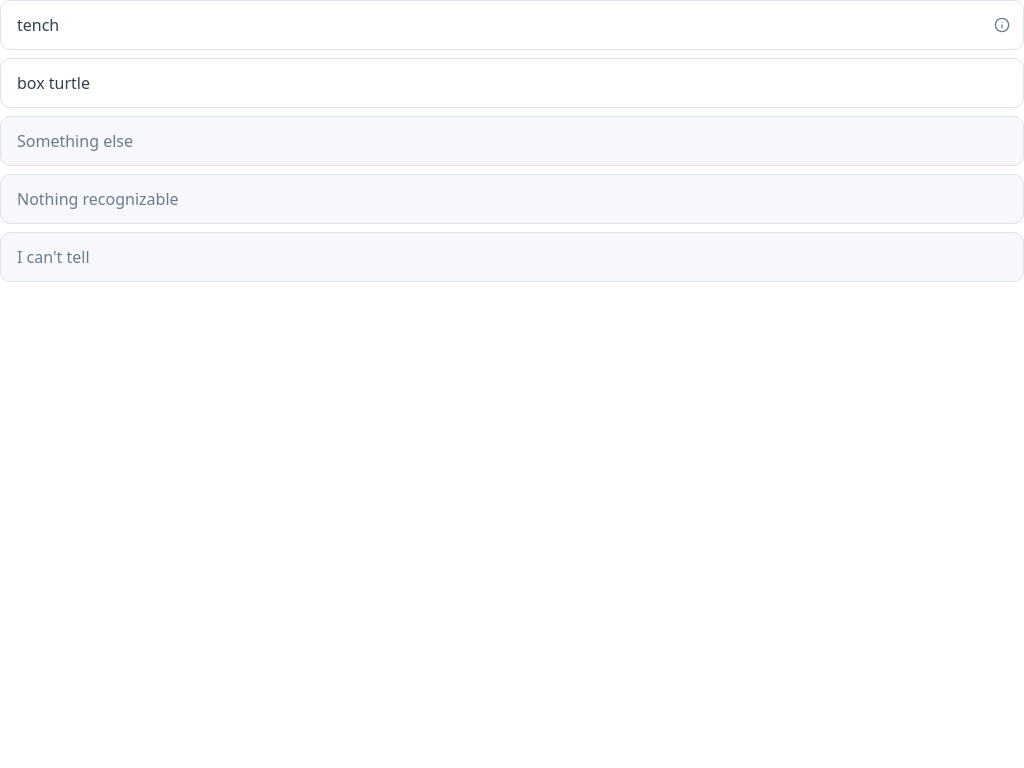
PairChoice references › opening the helper does NOT select the option or change n_changes
Click the button named "What is a “tench”?" at (1002, 25), box [988,11,1016,39]
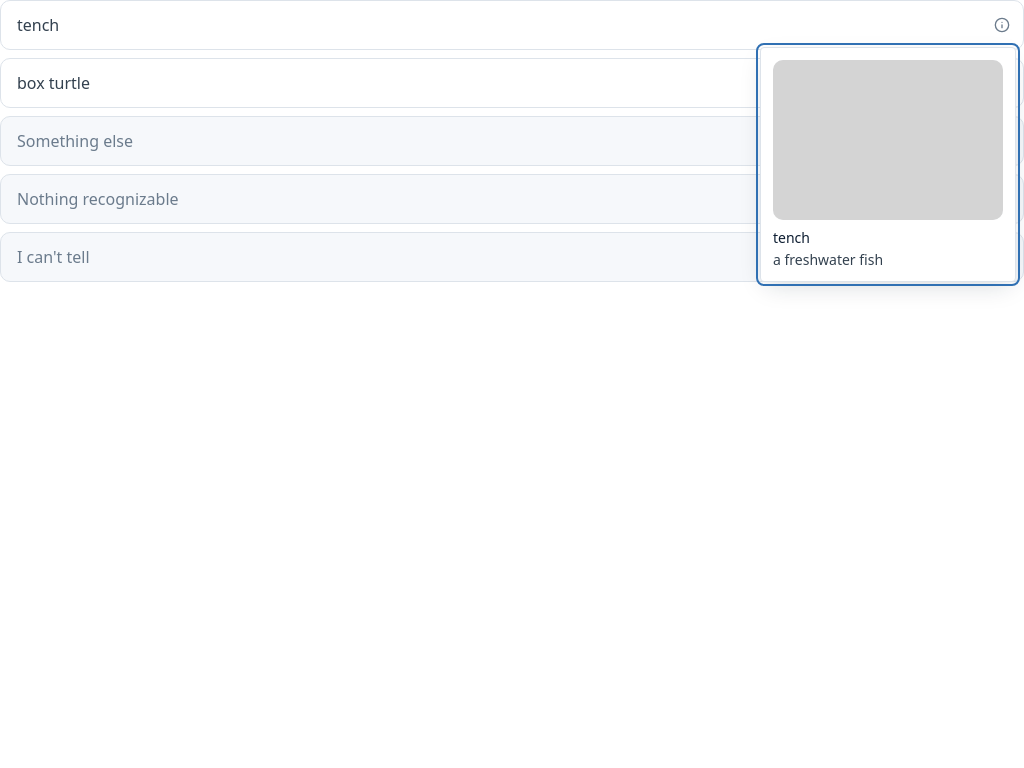
Result: the text "a freshwater fish" is shown at [773,250,883,269]
